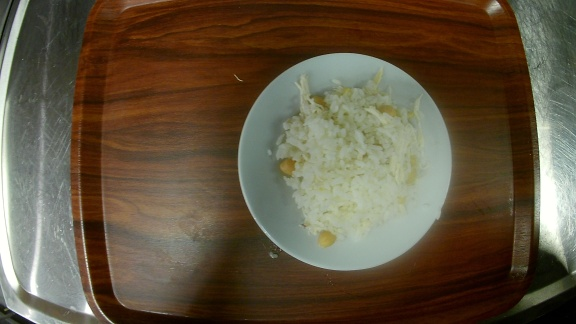nohutlupilav: (238, 51, 453, 271)
